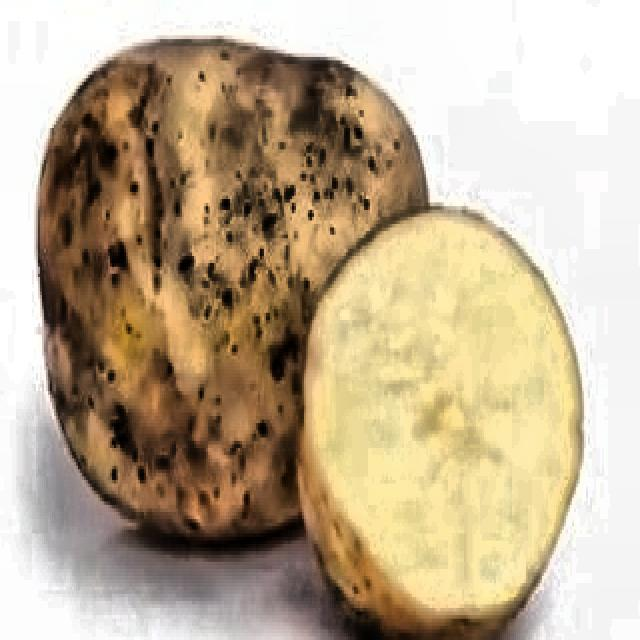Vegetable: (0, 36, 586, 622)
